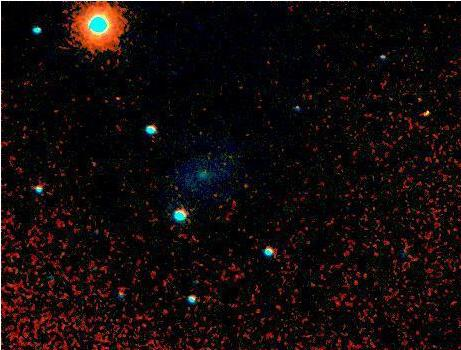star: (104, 85, 134, 115)
